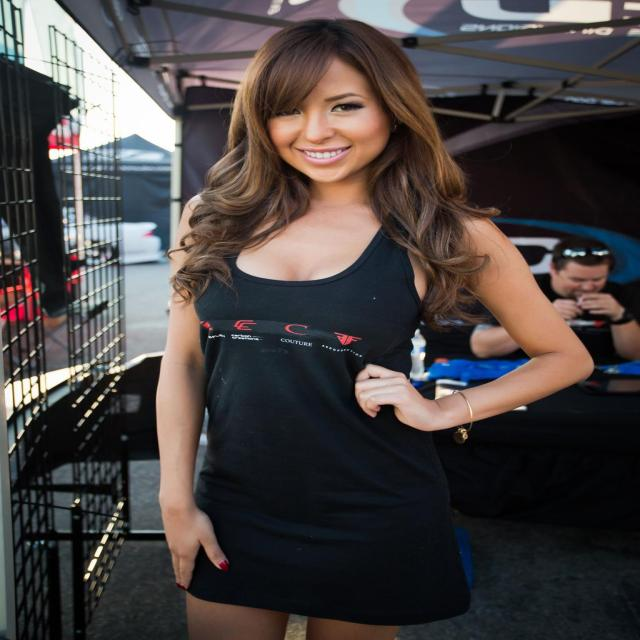Face: (227, 43, 401, 189)
